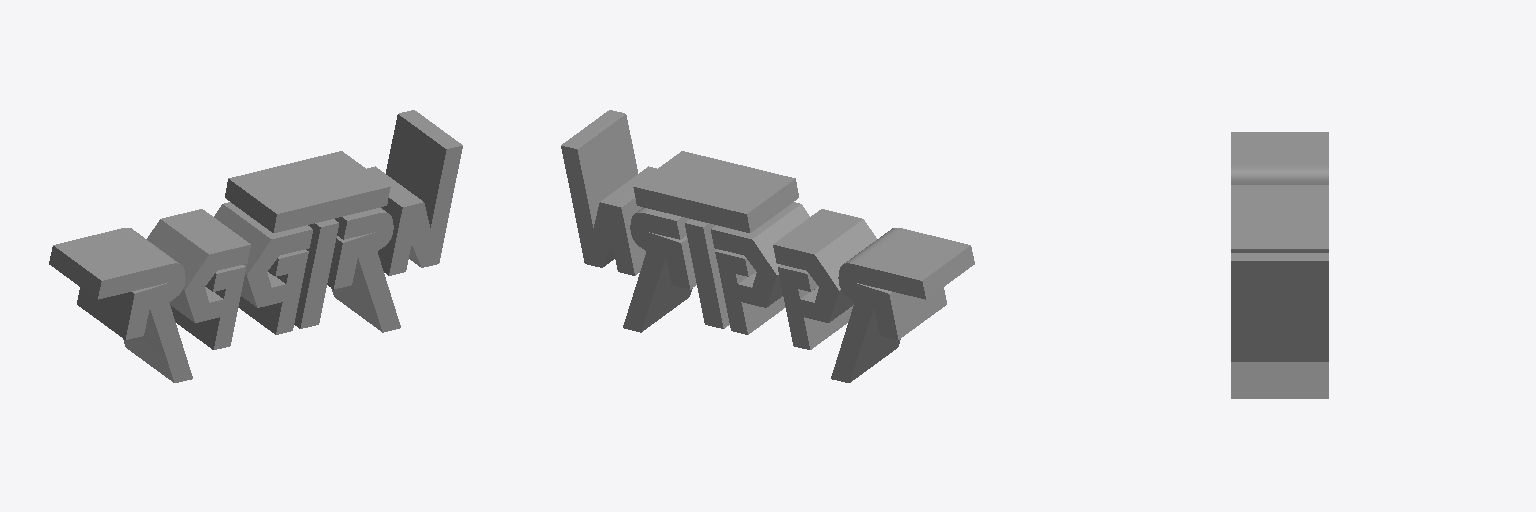
Rendered from rggtrn.obj.
3 views of the same model, side by side, from view 1: azimuth 30°, elevation 25°; view 2: azimuth 150°, elevation 25°; view 3: azimuth 270°, elevation 25° (orthographic).
Parts seen in each view (by area): view 1: Curve.001_path918; view 2: Curve.001_path918; view 3: Curve.001_path918.
Part boxes in pixels (bbox=[...]): Curve.001_path918: bbox=[49, 110, 462, 382]; Curve.001_path918: bbox=[561, 110, 974, 382]; Curve.001_path918: bbox=[1231, 132, 1328, 398].
Size of the model in its own units: 7.84 by 3.44 by 1.81.